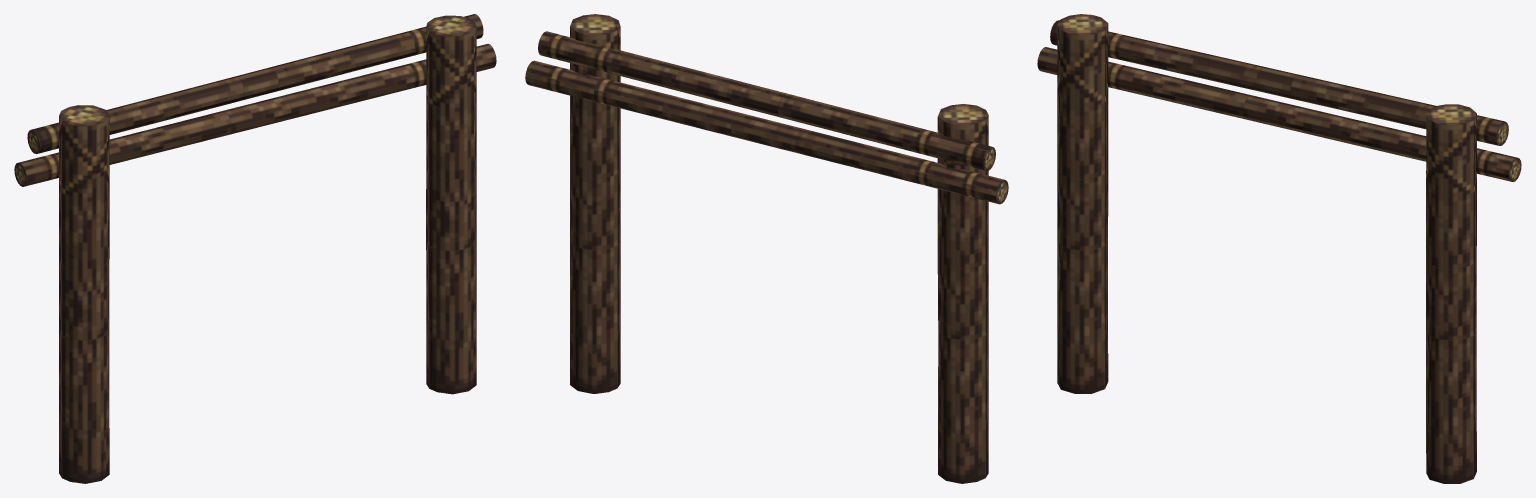
The model's file is ObjMD_Woodgate_A.FBX.
The picture shows the model from 3 angles, left to right: view 1: azimuth 30°, elevation 25°; view 2: azimuth 150°, elevation 25°; view 3: azimuth 330°, elevation 25°; orthographic projection.
Parts seen in each view (by area): view 1: ObjMD_Woodgate_A; view 2: ObjMD_Woodgate_A; view 3: ObjMD_Woodgate_A.
Boxes of the visible parts, bbox=[...] form: ObjMD_Woodgate_A: bbox=[14, 14, 496, 483]; ObjMD_Woodgate_A: bbox=[525, 14, 1008, 483]; ObjMD_Woodgate_A: bbox=[1037, 14, 1521, 483].
Size of the model in its own units: 688 by 500 by 80.25.
